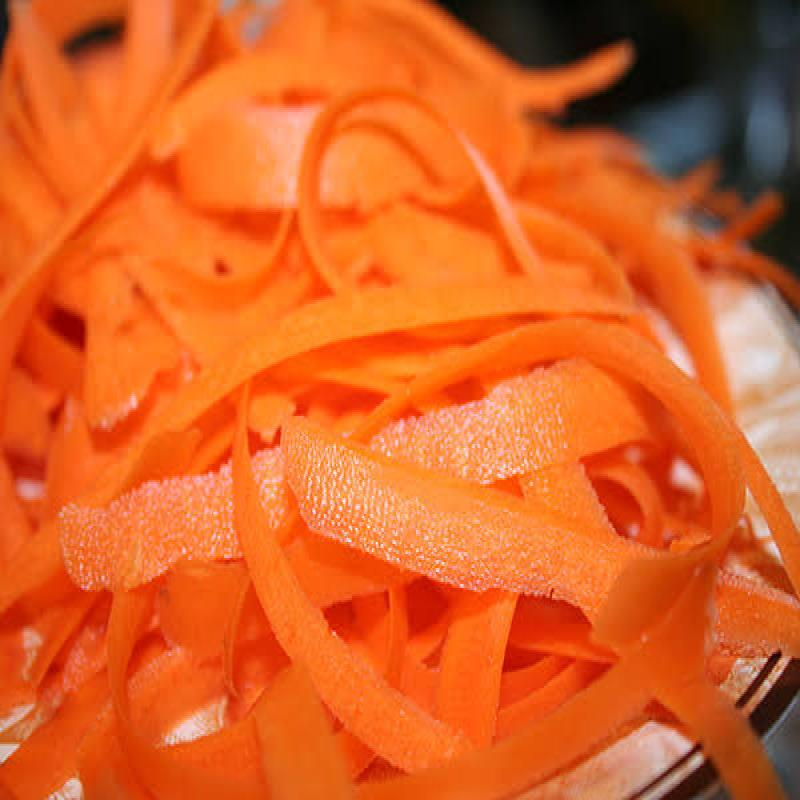vegetable peels: (234, 381, 462, 778), (282, 416, 690, 630), (63, 469, 242, 595)
